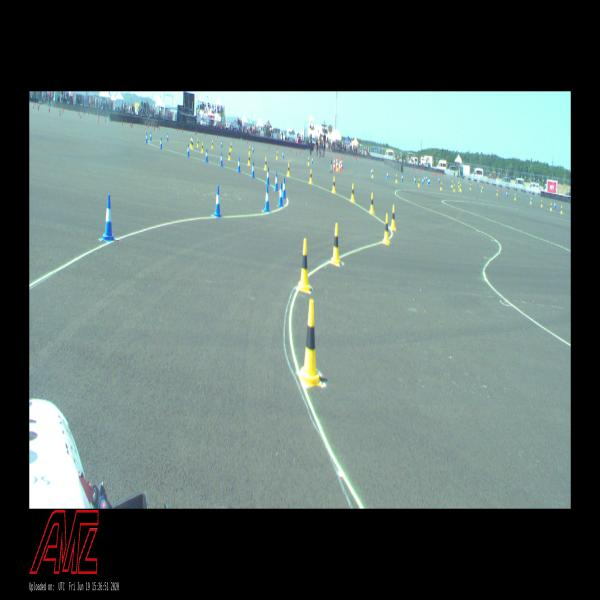blue_cone: (102, 195, 116, 243), (214, 185, 222, 218), (264, 186, 270, 212), (278, 182, 283, 206), (282, 178, 286, 199), (274, 172, 278, 191), (266, 168, 270, 184), (252, 162, 255, 178), (220, 153, 223, 166), (187, 144, 190, 157), (205, 149, 208, 162), (238, 157, 240, 172), (146, 133, 148, 143), (160, 138, 162, 148), (282, 150, 284, 158), (311, 156, 313, 164), (427, 178, 429, 185), (414, 176, 416, 183), (506, 190, 508, 197), (554, 202, 556, 208), (252, 146, 254, 152), (150, 132, 151, 141), (402, 174, 403, 182), (387, 171, 388, 179), (438, 178, 440, 182), (167, 133, 168, 141), (221, 140, 222, 148), (422, 177, 423, 184), (429, 178, 430, 185), (424, 176, 425, 182), (426, 176, 427, 180)
large_orange_cone: (333, 157, 336, 170), (339, 158, 341, 171)
yellow_cone: (298, 299, 322, 387), (298, 239, 311, 293), (331, 223, 341, 265), (383, 214, 390, 244), (390, 205, 396, 231), (370, 192, 374, 214), (351, 183, 354, 202), (332, 176, 335, 192), (287, 162, 290, 177), (264, 157, 267, 170), (201, 142, 204, 153), (228, 149, 231, 160), (248, 151, 250, 166), (310, 169, 312, 183), (560, 205, 563, 214), (196, 138, 198, 148), (192, 140, 194, 150), (418, 178, 420, 187), (212, 140, 214, 149), (396, 174, 398, 183), (276, 151, 278, 160), (230, 143, 232, 151), (440, 182, 442, 190), (550, 202, 552, 210), (451, 180, 453, 188), (496, 189, 498, 196), (514, 194, 516, 200), (308, 156, 309, 166), (454, 184, 455, 192), (372, 170, 373, 178), (541, 199, 542, 206), (481, 186, 482, 193), (470, 184, 471, 190), (250, 146, 251, 151)
